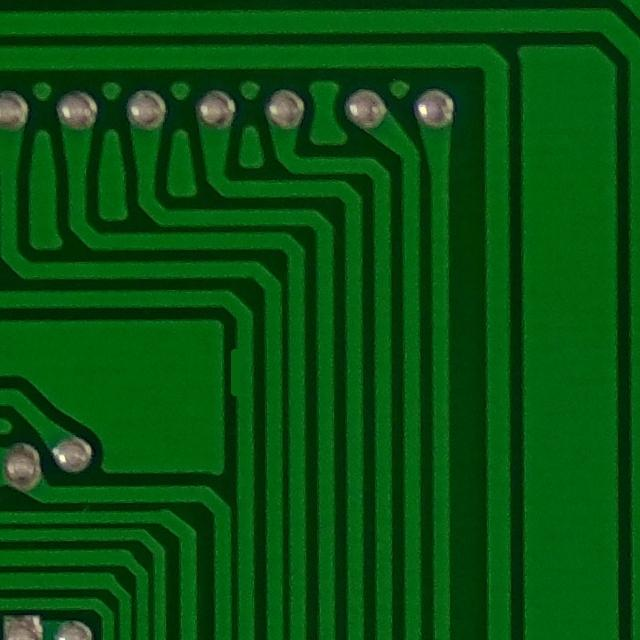spur: (220, 338, 254, 404)
